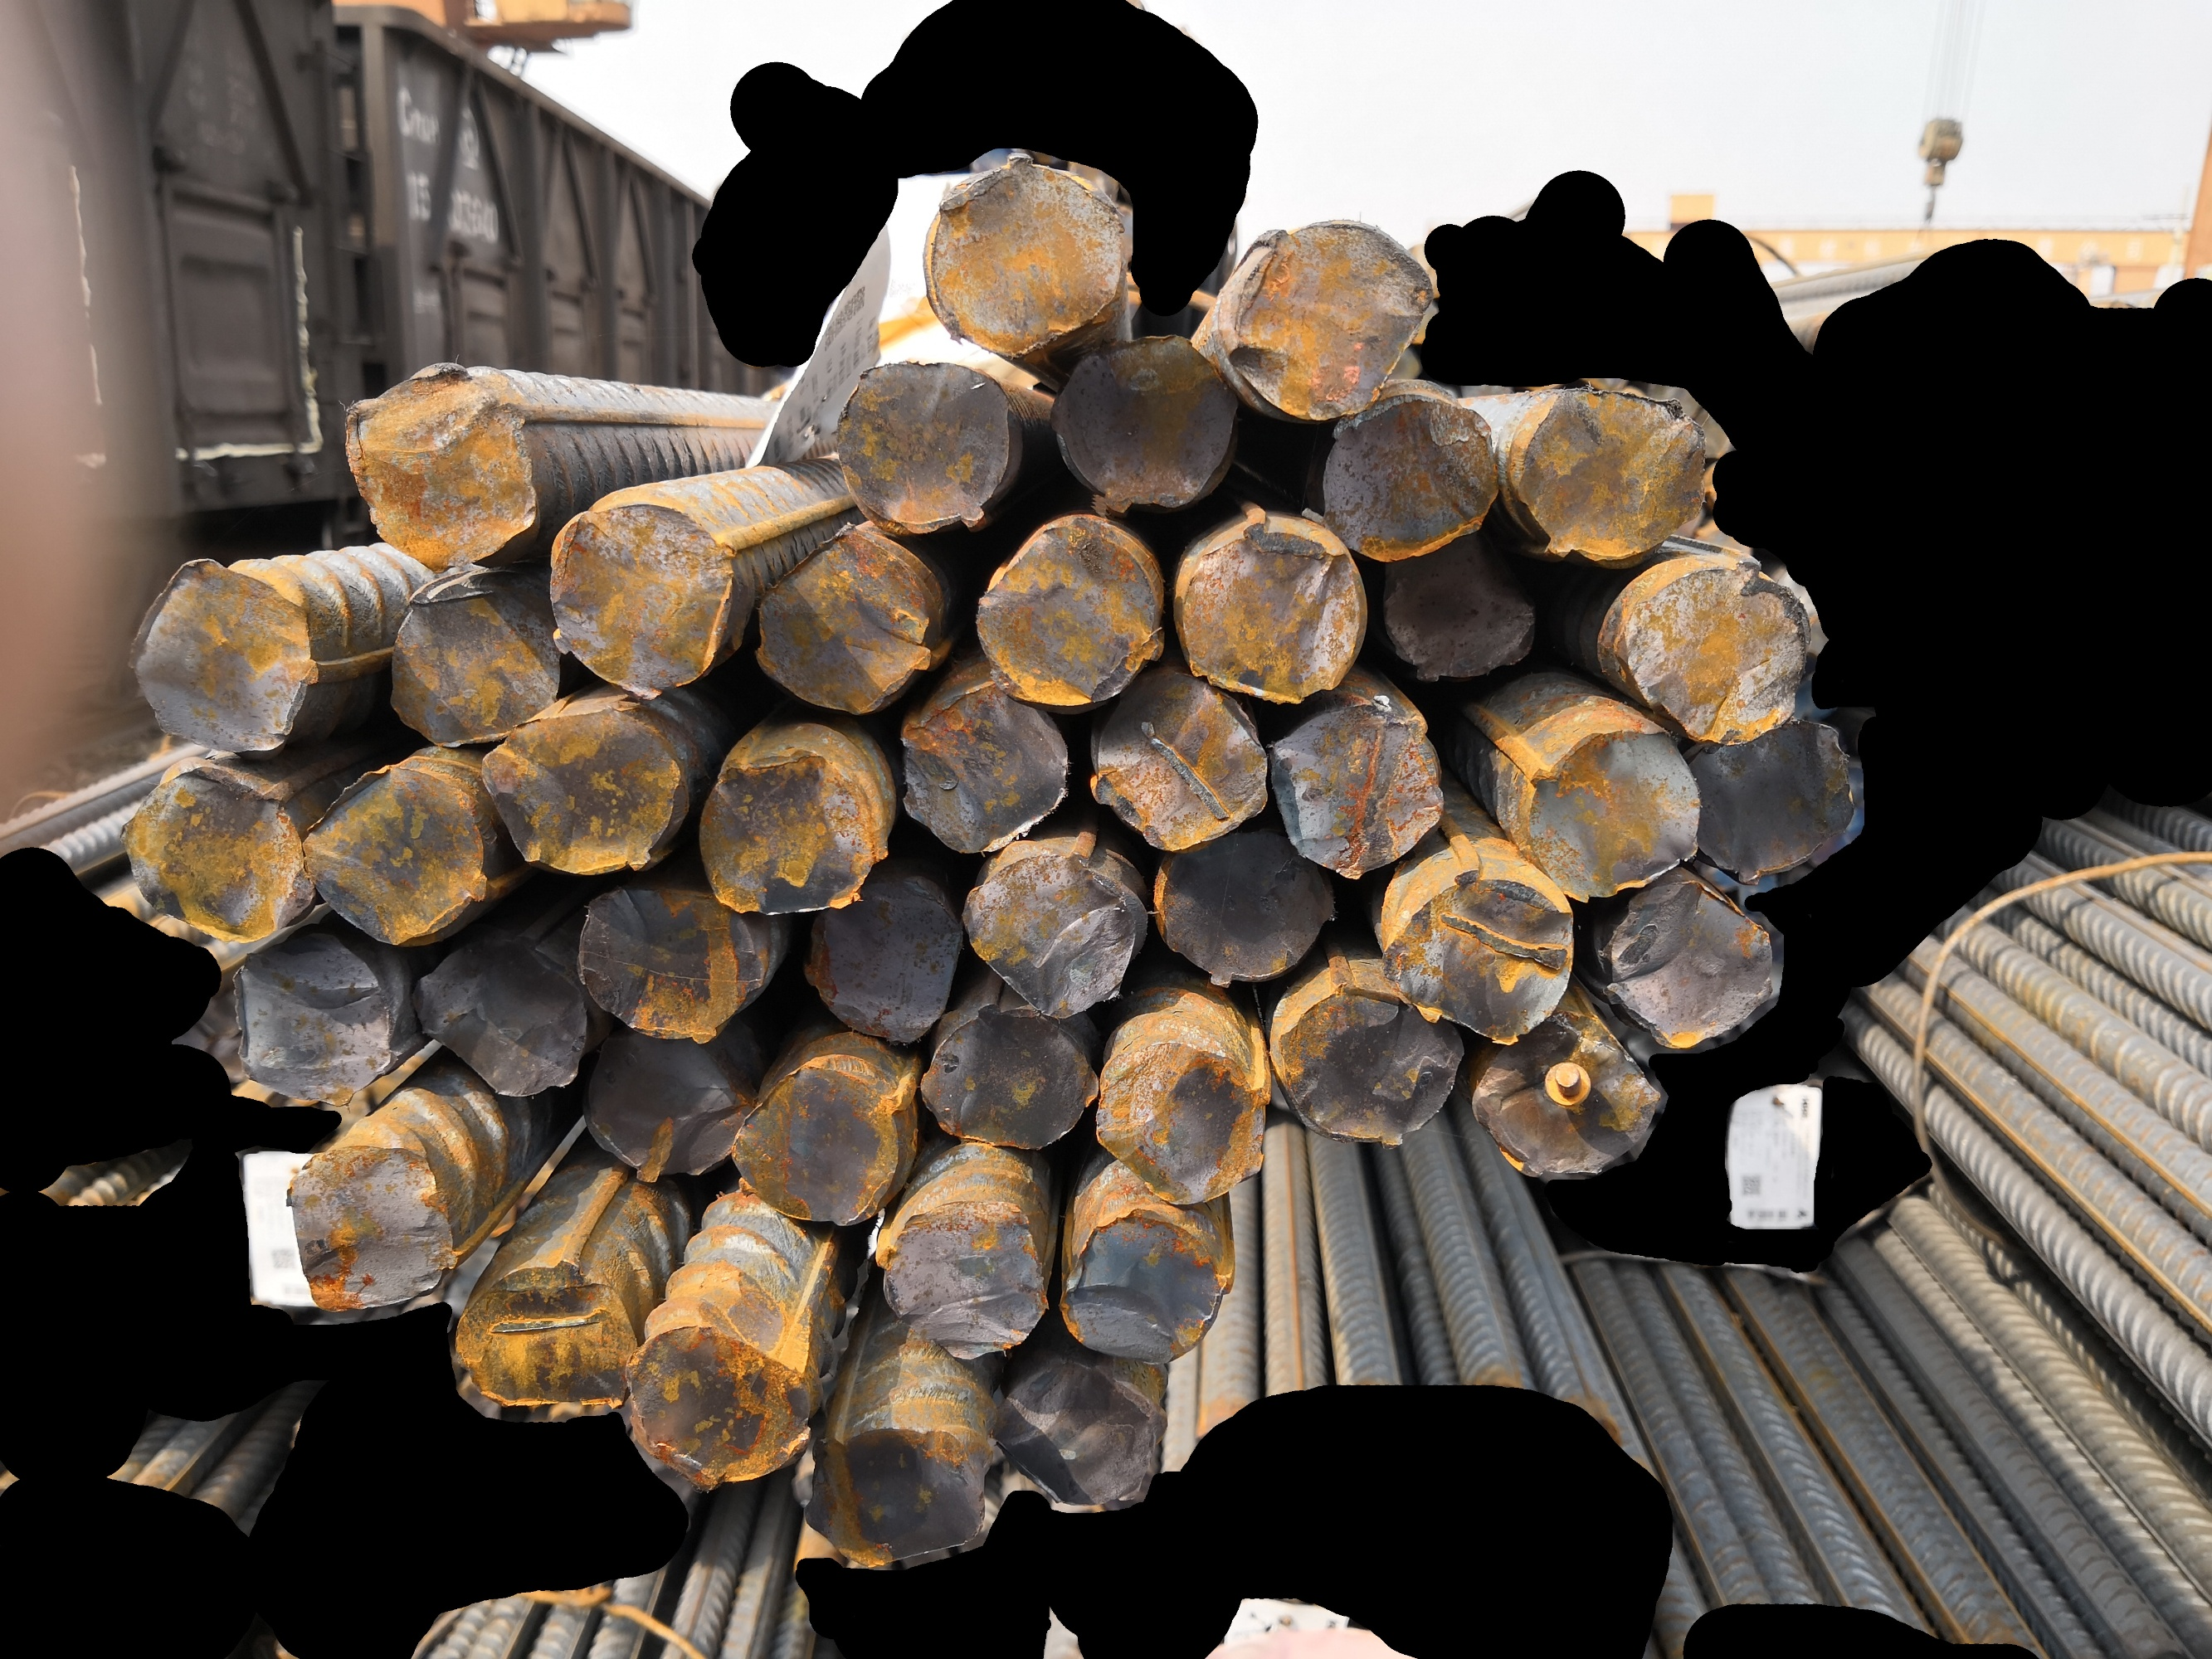rebar: (336, 352, 544, 570), (1217, 220, 1435, 423), (920, 155, 1131, 356), (124, 552, 326, 760), (544, 493, 739, 704), (1171, 504, 1370, 709), (976, 507, 1166, 709), (1504, 382, 1712, 566), (1618, 551, 1813, 746), (748, 526, 938, 723), (1051, 328, 1246, 518), (119, 758, 319, 941), (483, 702, 685, 882), (1382, 863, 1576, 1049), (1084, 659, 1267, 856), (303, 758, 492, 948), (1267, 694, 1452, 884), (624, 1312, 821, 1490), (1318, 382, 1504, 566), (830, 356, 1018, 538), (284, 1124, 464, 1316), (1271, 979, 1468, 1154), (572, 885, 784, 1046), (694, 746, 889, 917), (894, 676, 1077, 857), (730, 1054, 917, 1232), (1518, 720, 1700, 901), (380, 573, 568, 748), (410, 929, 594, 1105), (960, 845, 1147, 1019), (1469, 1012, 1663, 1180), (1591, 880, 1778, 1053), (453, 1255, 641, 1419), (1089, 1037, 1272, 1204), (1149, 829, 1342, 985), (870, 1199, 1046, 1366), (804, 871, 967, 1051), (1686, 718, 1858, 885), (1056, 1208, 1238, 1364), (990, 1351, 1166, 1511), (807, 1419, 1004, 1560), (917, 1002, 1098, 1155), (228, 938, 403, 1096), (575, 1028, 748, 1180), (1379, 530, 1541, 688)
